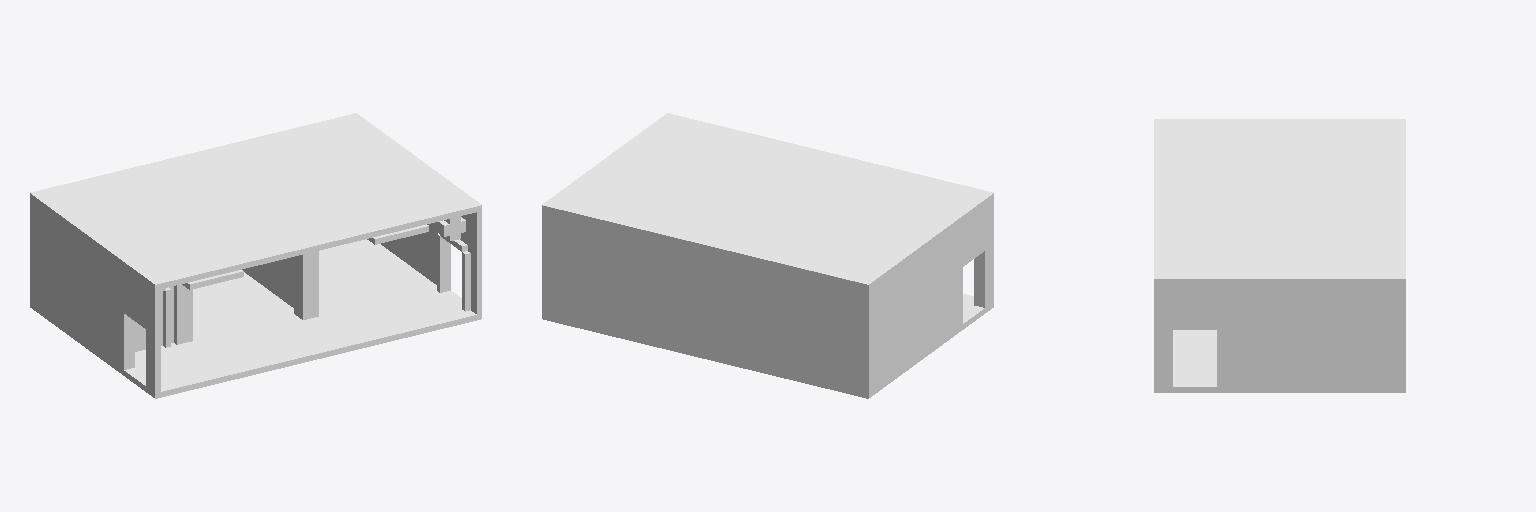
Rendered from Volt-1.obj.
3 renders of one model, left to right at view 1: azimuth 30°, elevation 25°; view 2: azimuth 150°, elevation 25°; view 3: azimuth 270°, elevation 25°, orthographic.
Parts seen in each view (by area): view 1: object 1; view 2: object 1; view 3: object 1.
Part boxes in pixels (x1,y1,x2,y2): object 1: (30,113,481,398); object 1: (542,113,993,398); object 1: (1154,119,1405,392).
Bounding box in the file's own units: 6 × 2 × 4.